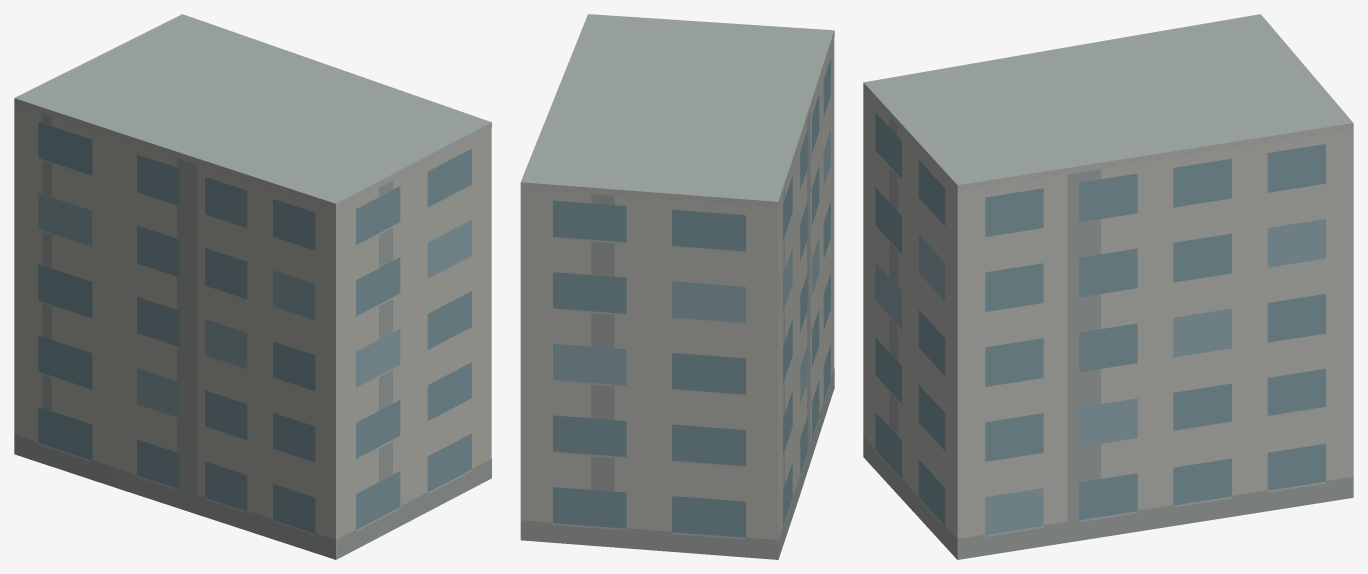
Rendered from survey-upis-32867877.glb.
3 renders of one model, left to right at view 1: azimuth 30°, elevation 25°; view 2: azimuth 150°, elevation 25°; view 3: azimuth 270°, elevation 25°, orthographic. The views are drawn at different scales.
Visible parts, largest first — view 1: survey-upis-32867877.tmp; view 2: survey-upis-32867877.tmp; view 3: survey-upis-32867877.tmp.
Boxes of the visible parts, box(x1,y1,x2,y2) form: survey-upis-32867877.tmp: box(14, 14, 491, 559); survey-upis-32867877.tmp: box(520, 14, 834, 559); survey-upis-32867877.tmp: box(863, 14, 1353, 559).
Size of the model in its own units: 13.63 by 13.9 by 16.49.
